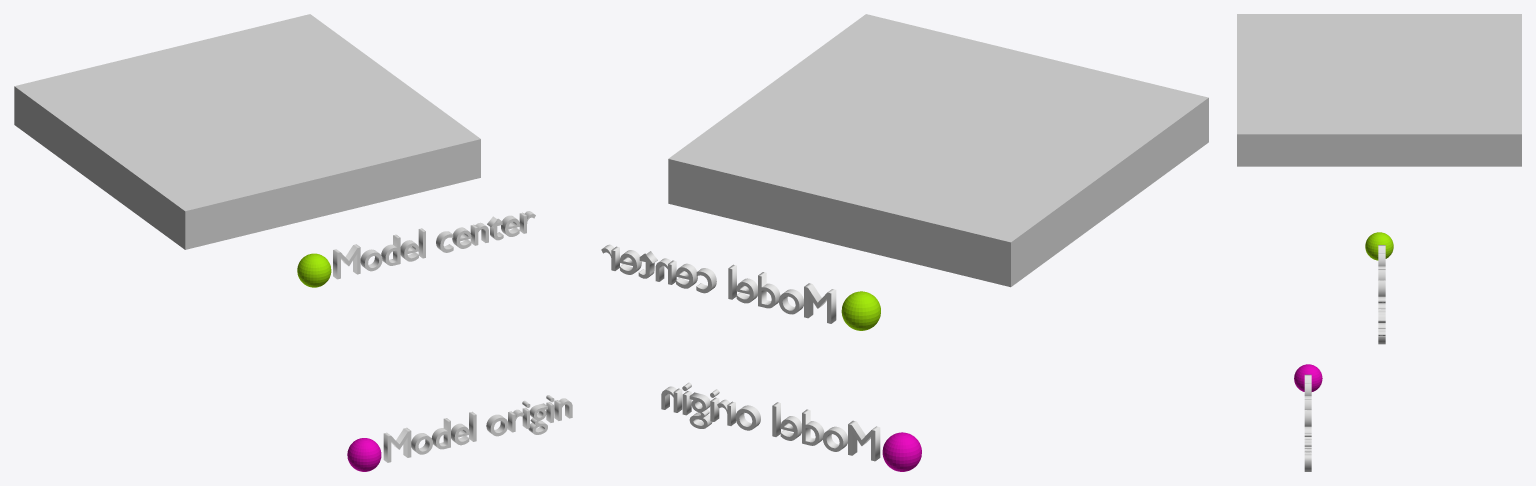
File: odd-shape-labeled.glb
3 views of the same model, side by side, from view 1: azimuth 30°, elevation 25°; view 2: azimuth 150°, elevation 25°; view 3: azimuth 270°, elevation 25° (orthographic). The views are drawn at different scales.
Parts seen in each view (by area): view 1: Assymetrical feature, Model origin, Model center, Model center sphere, Model origin sphere; view 2: Assymetrical feature, Model origin, Model center, Model origin sphere, Model center sphere; view 3: Assymetrical feature, Model center, Model origin, Model center sphere, Model origin sphere.
Part boxes in pixels (x1,y1,x2,y2): Assymetrical feature: (14, 14, 480, 249); Model origin: (383, 395, 572, 462); Model center: (333, 211, 535, 279); Model center sphere: (297, 253, 331, 287); Model origin sphere: (347, 438, 381, 471); Assymetrical feature: (668, 14, 1208, 287); Model origin: (661, 382, 880, 461); Model center: (601, 244, 836, 323); Model origin sphere: (882, 432, 921, 471); Model center sphere: (841, 291, 880, 330); Assymetrical feature: (1237, 14, 1521, 166); Model center: (1378, 245, 1385, 344); Model origin: (1304, 374, 1311, 471); Model center sphere: (1365, 232, 1393, 260); Model origin sphere: (1294, 364, 1322, 391).
Bounding box in the file's own units: 2.94 × 2.26 × 2.
